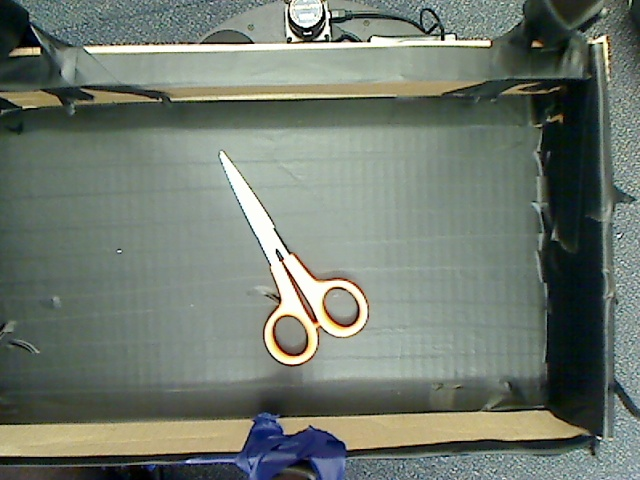scissors: (208, 143, 384, 361)
